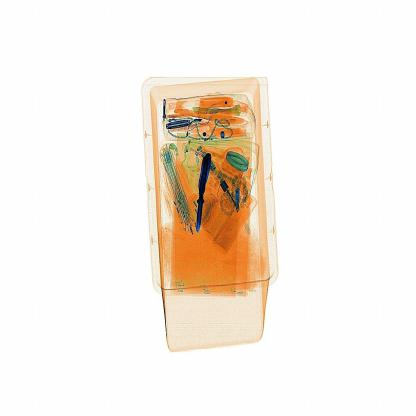gun: (190, 139, 218, 245)
